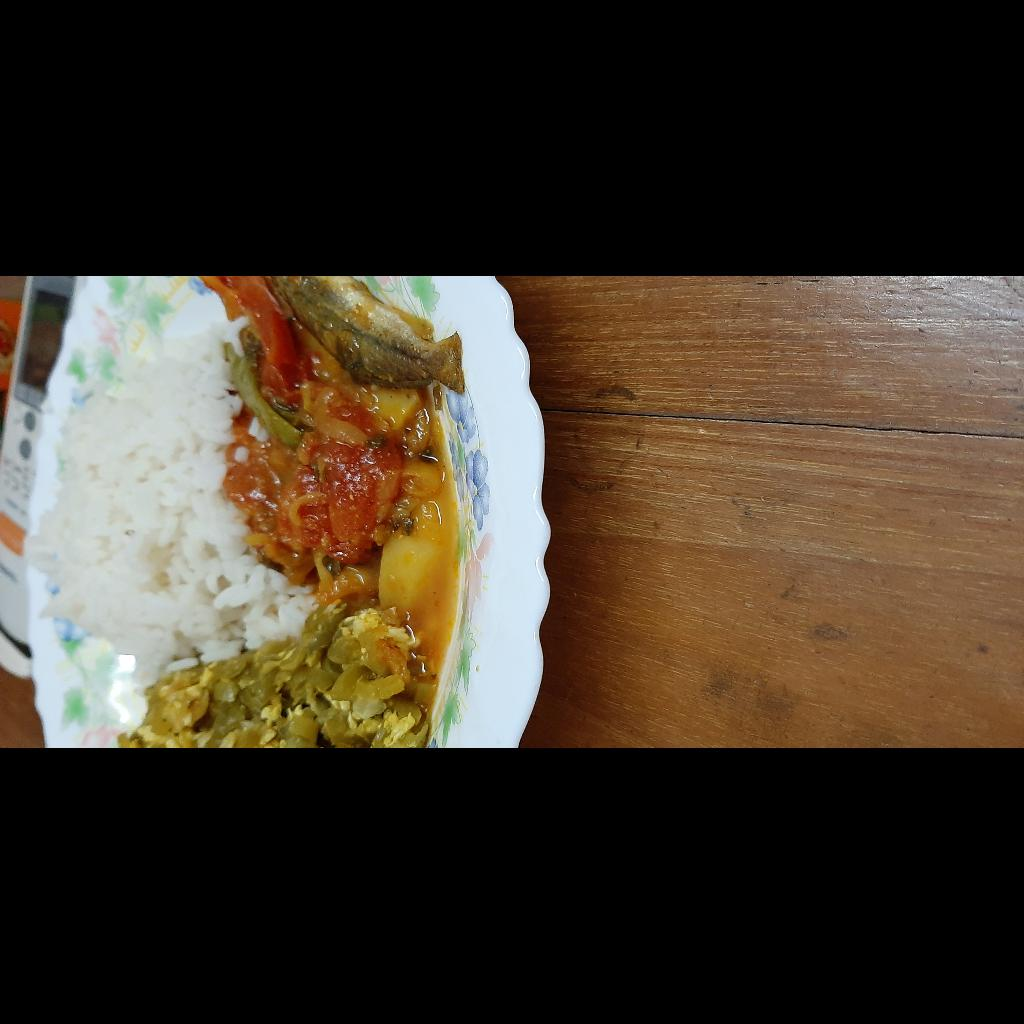chichinga-vaji: (0, 399, 147, 710)
egg: (0, 592, 50, 695), (88, 613, 145, 691), (12, 538, 53, 587)
fish: (351, 547, 472, 741)
potato: (83, 572, 416, 735)
rice: (50, 295, 432, 592)
tomato: (166, 483, 472, 675)
